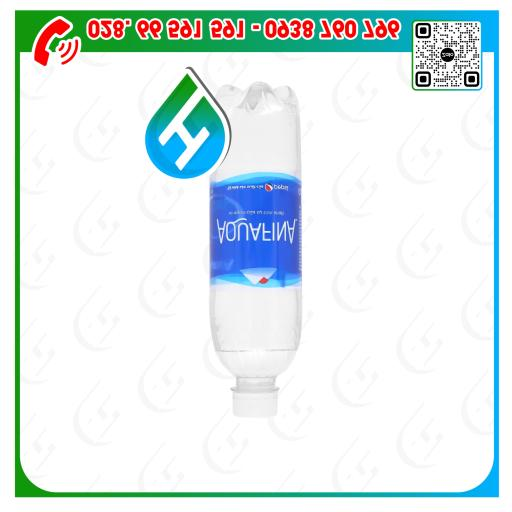bottle: (209, 82, 303, 418)
